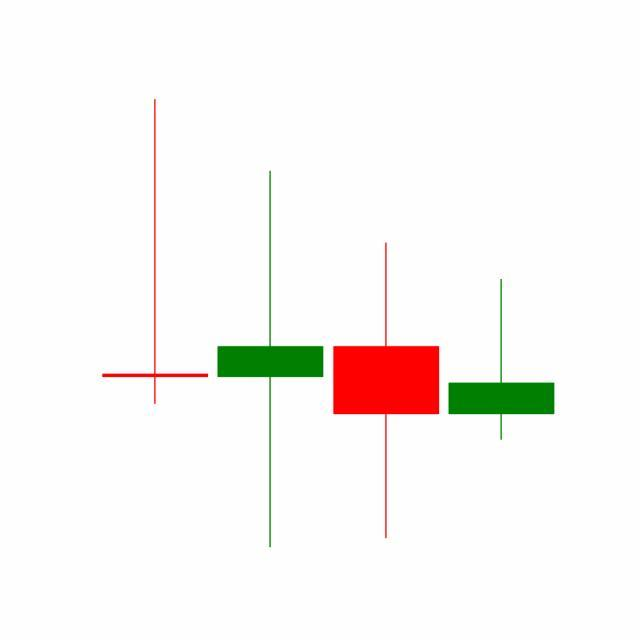Gravestone Doji: (444, 278, 560, 443)
